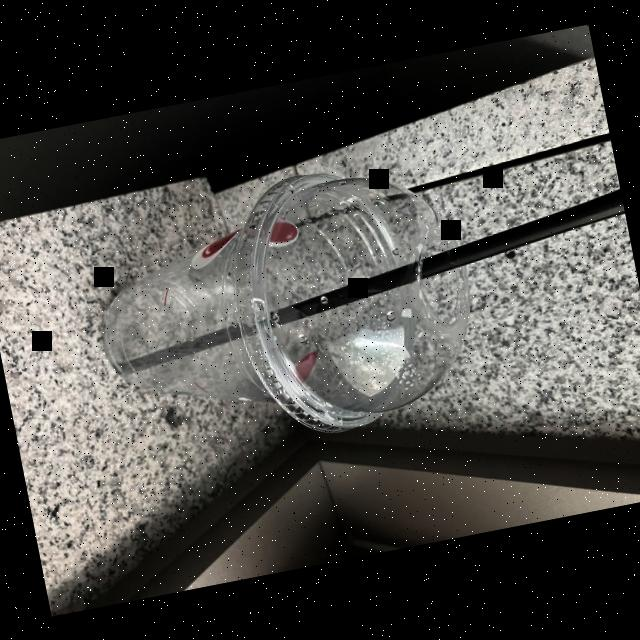plastic_cup: (77, 142, 499, 472)
plastic_cup_lid: (210, 136, 496, 456)
straw: (110, 184, 626, 379)
